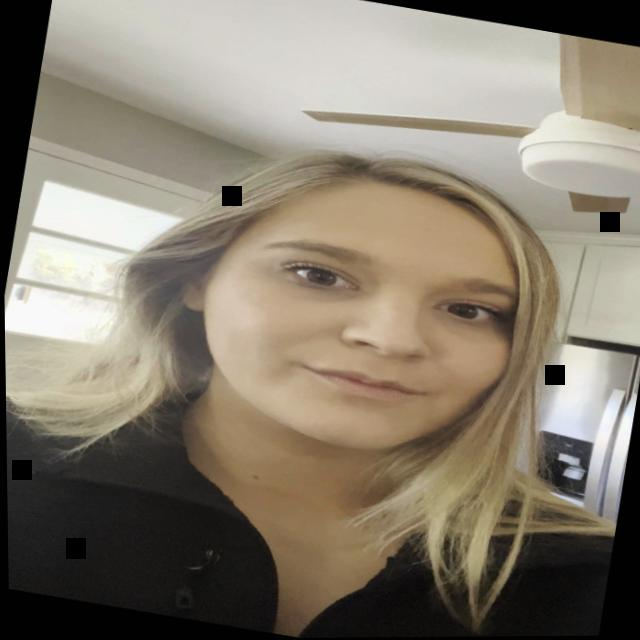NO-Mask: (149, 138, 559, 517)
